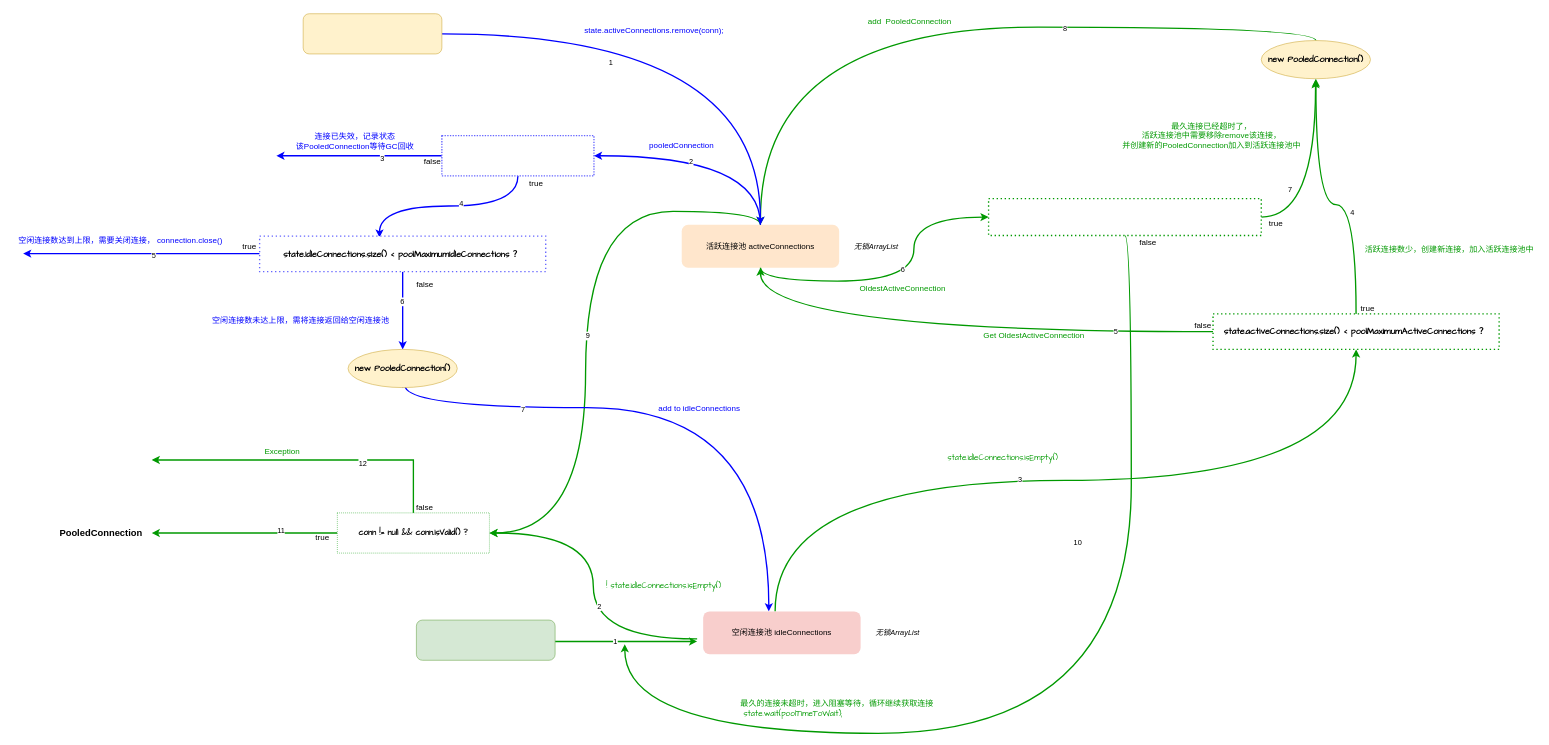
Some shapes in this 1549 by 745 pixel diagram are drawn without their labels. The shapes that lost their labels are listed below. From the top down, each one's centre as x and y in pixels, then its label:
(x=372, y=33): RETURN PooledConnection Request
(x=517, y=155): conn.isValid() ?
(x=1125, y=217): 超时检查：longestCheckoutTime > poolMaximumCheckoutTime ?
(x=485, y=639): GET PooledConnection Request
